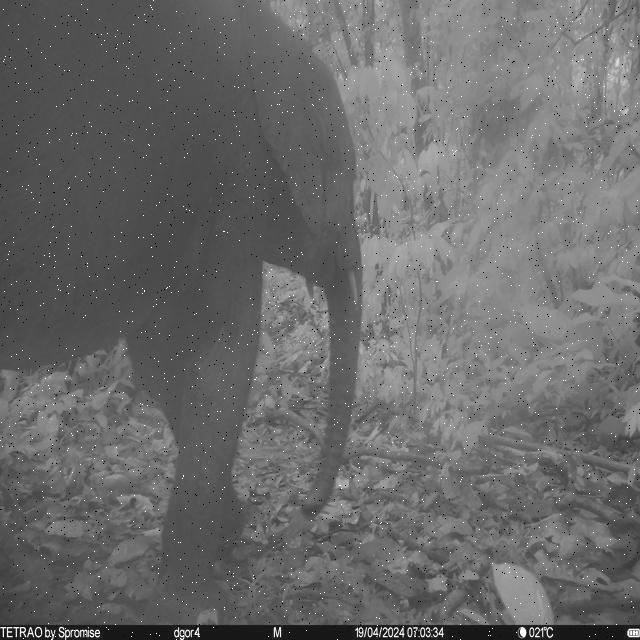elephant: (1, 1, 364, 626)
tusk: (348, 270, 360, 306), (302, 279, 316, 299)
